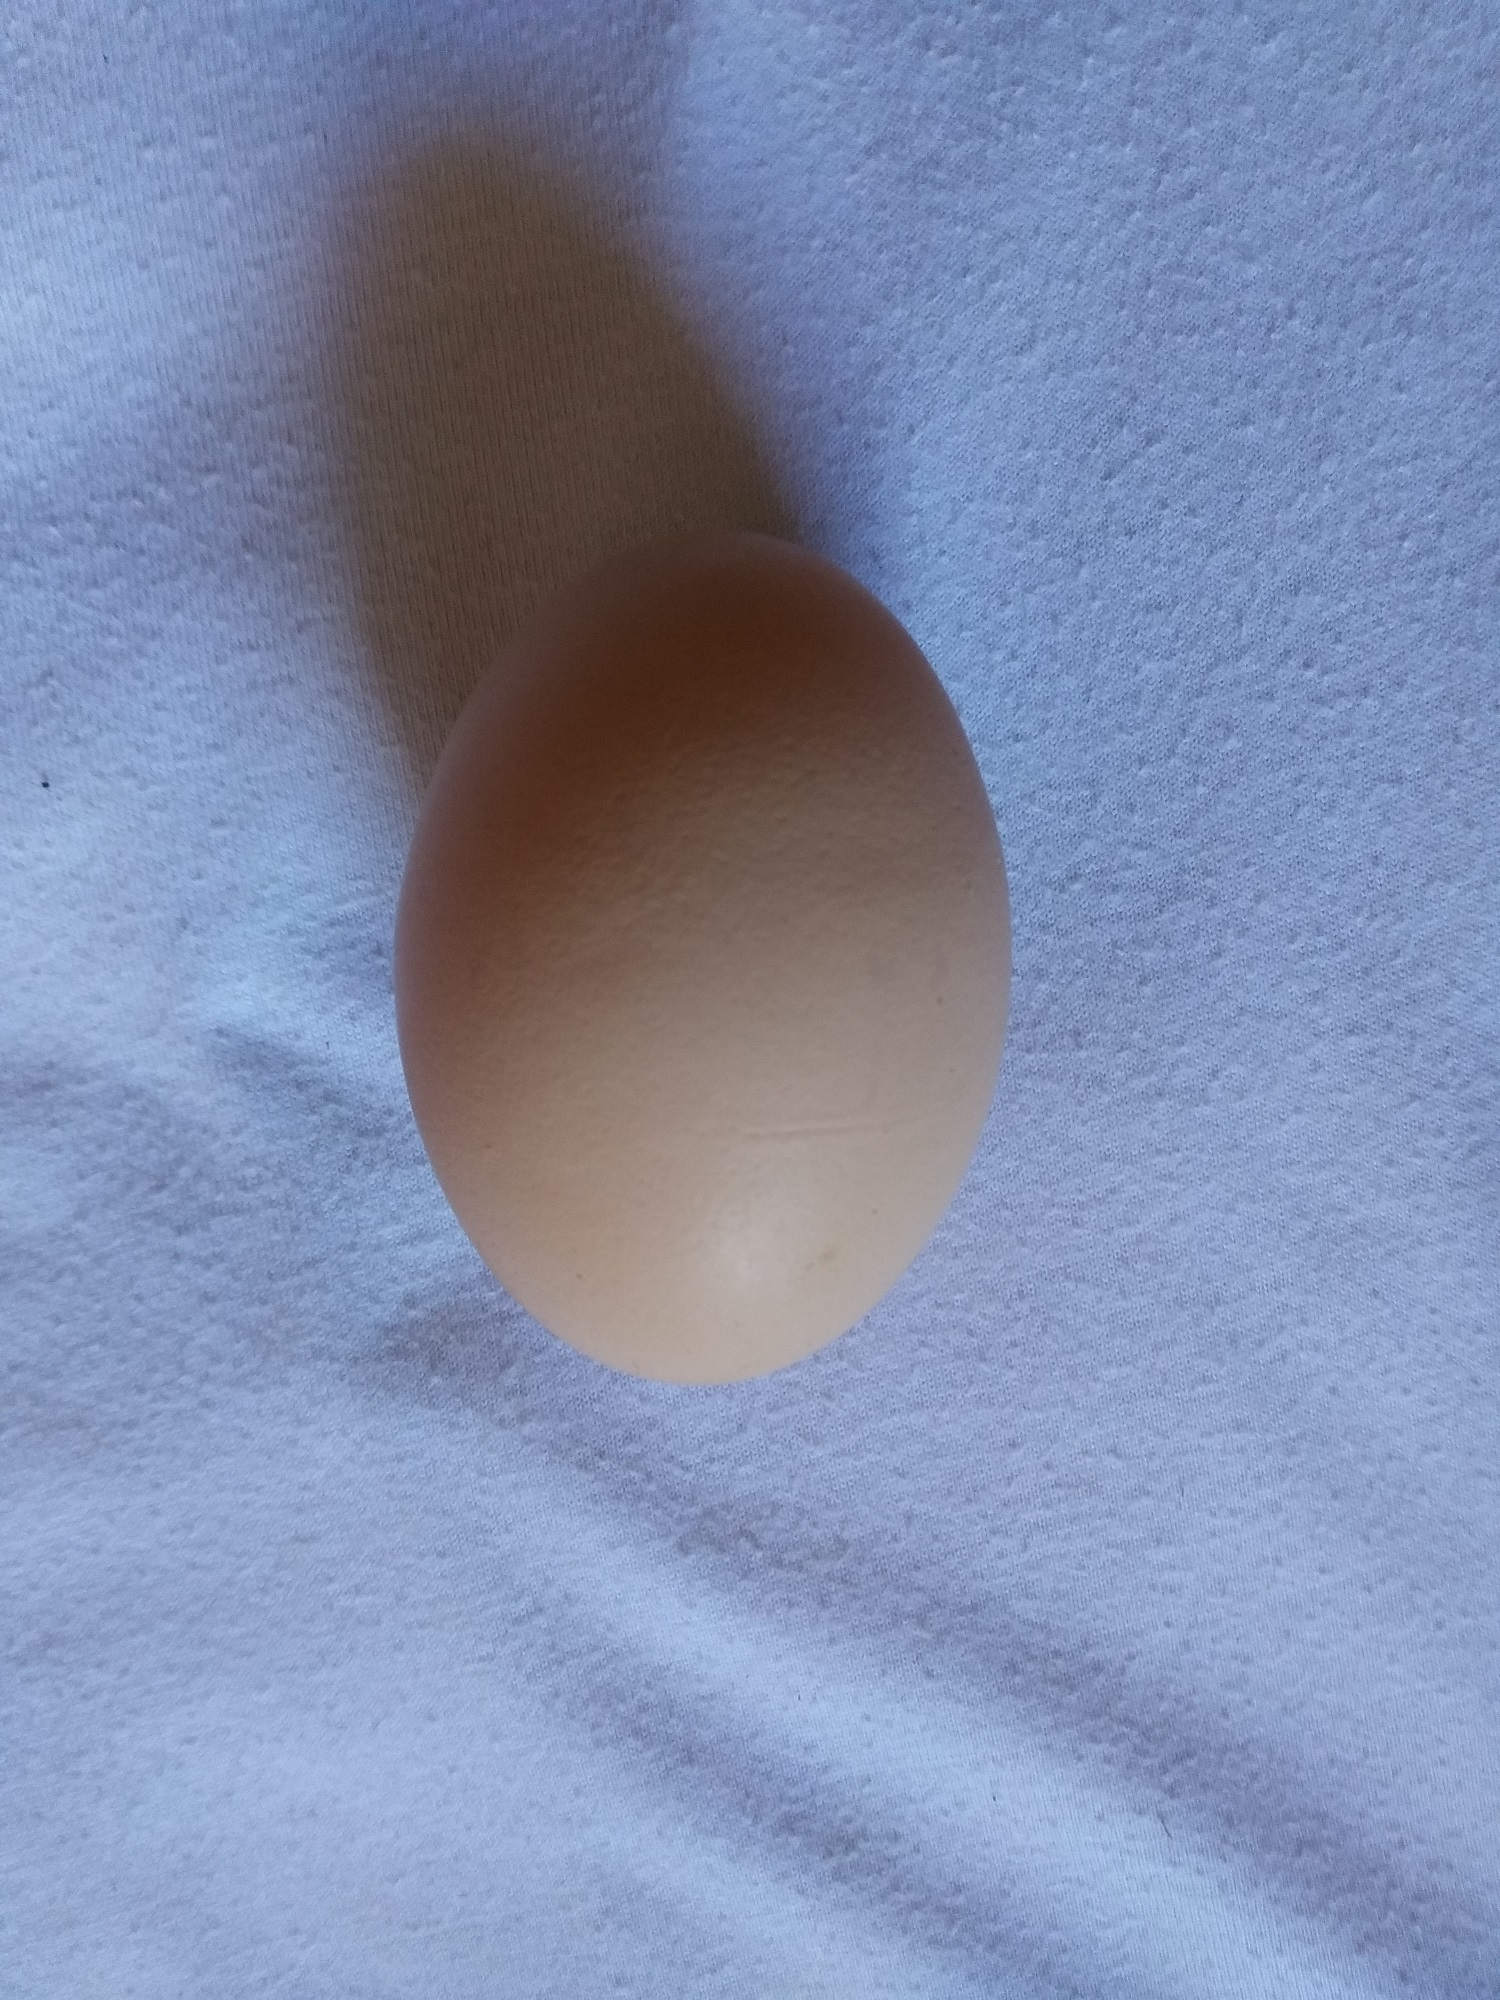Female: (381, 526, 1027, 1395)
